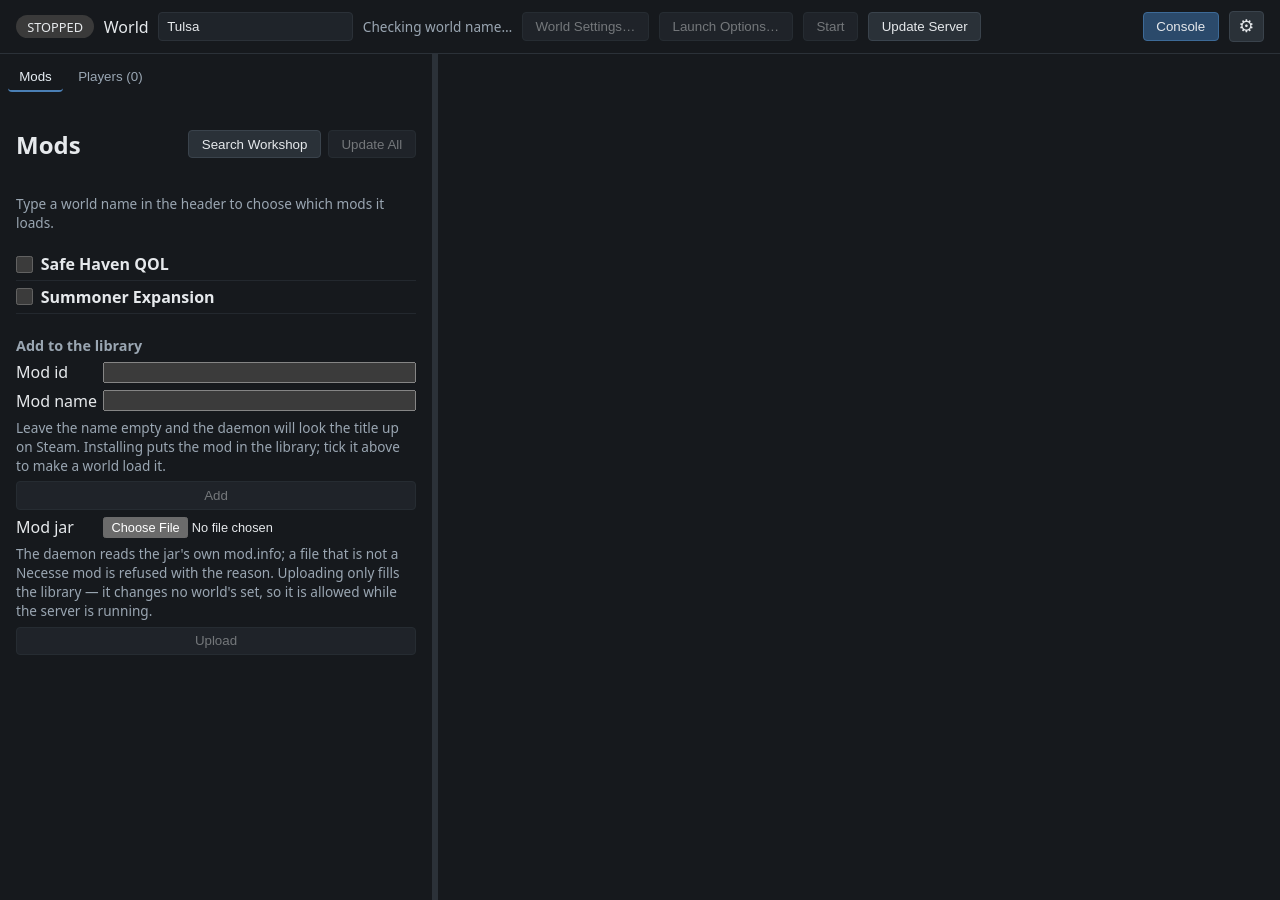
Test: App console toggle › hides the console and puts both panels on screen at once
Expected: the button "Update Server" is shown, [868,12,981,41]
Click the button "Console" at (1181, 27), box [1142,12,1219,41]
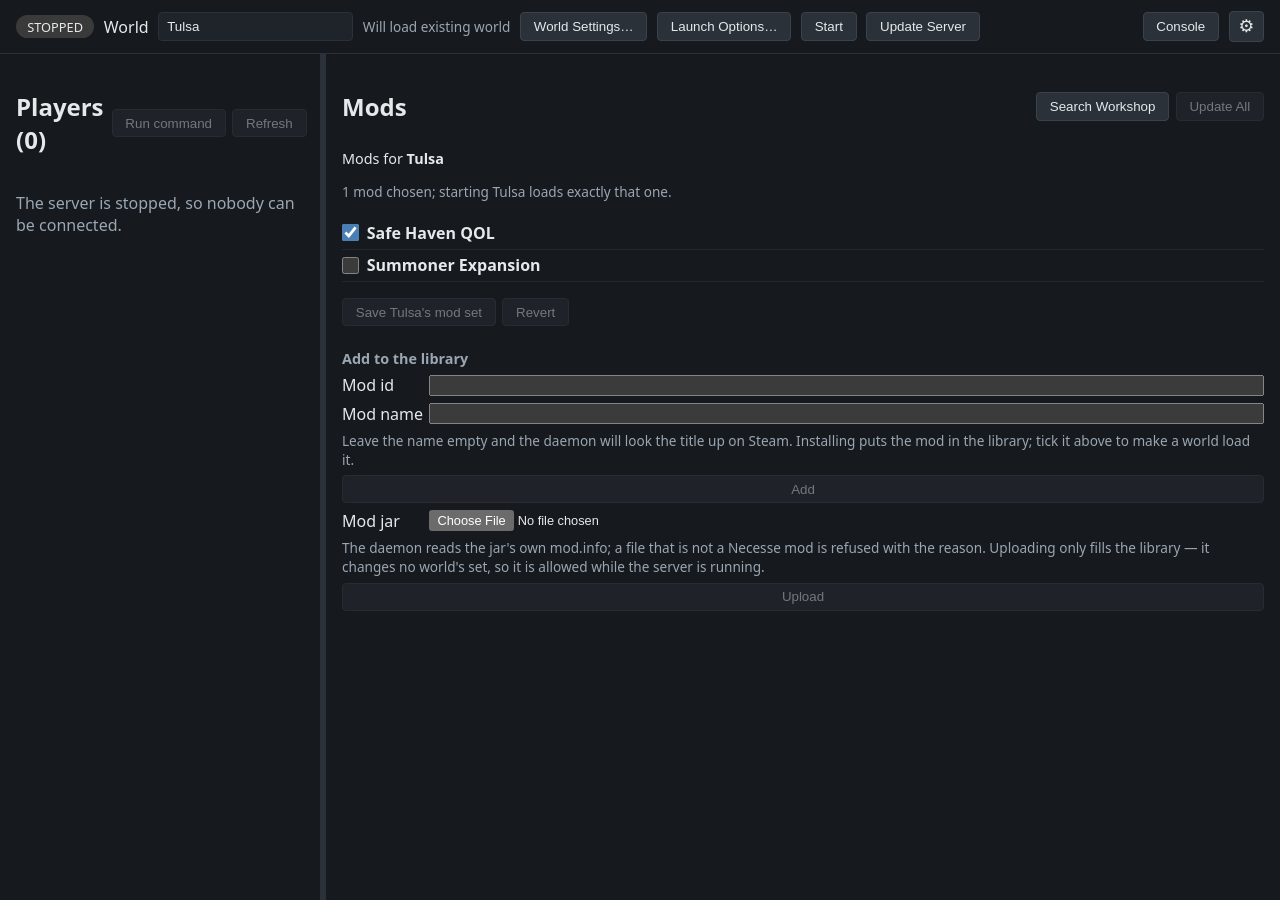
Expected: the heading "Mods" is shown, [342,90,407,123]
Expected: the tab is gone
